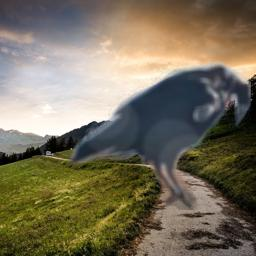Crow: (68, 62, 251, 210)
